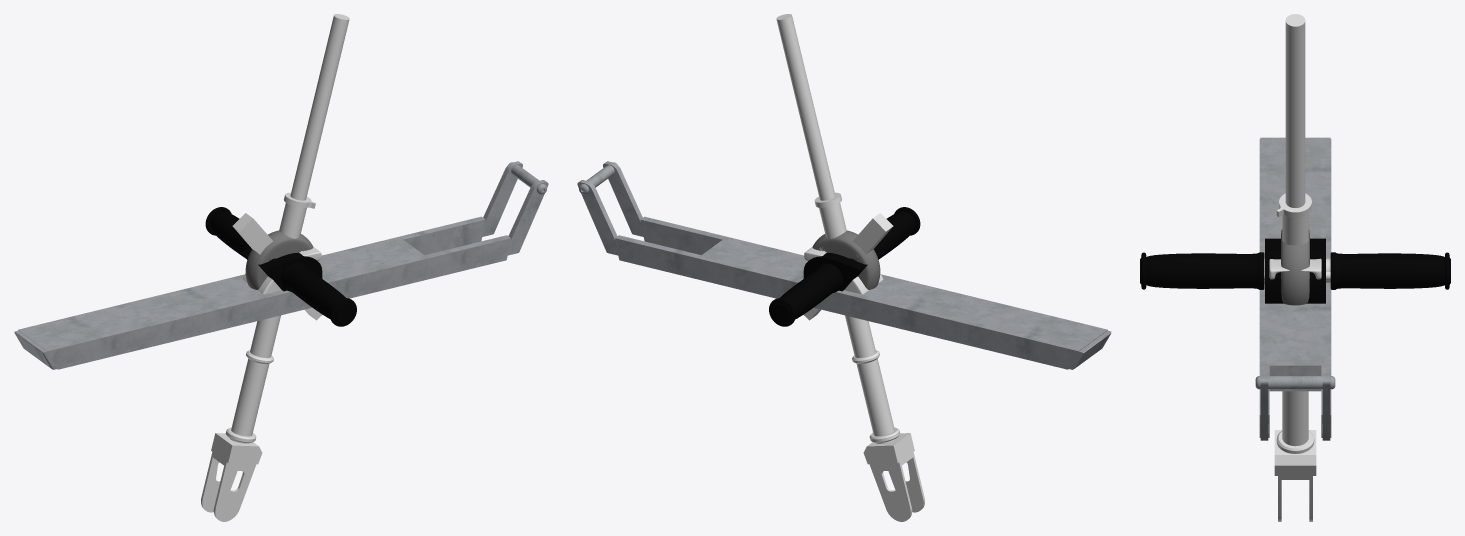
File: scooter.glb
The picture shows the model from 3 angles, left to right: view 1: azimuth 30°, elevation 25°; view 2: azimuth 150°, elevation 25°; view 3: azimuth 270°, elevation 25°; orthographic projection. The views are drawn at different scales.
Visible parts, largest first — view 1: Baseplate, Steering Rod, Handle Bar, Cylinder, Plastic Cover, Joint piece; view 2: Baseplate, Steering Rod, Handle Bar, Cylinder, Plastic Cover, Joint piece; view 3: Baseplate, Steering Rod, Handle Bar, Plastic Cover, Cylinder, Cube.014.
Boxes of the visible parts, <box> form: Baseplate: <box>14,161,548,369</box>; Steering Rod: <box>201,14,349,521</box>; Handle Bar: <box>205,207,356,326</box>; Cylinder: <box>245,230,313,289</box>; Plastic Cover: <box>240,248,322,291</box>; Joint piece: <box>232,213,322,320</box>; Baseplate: <box>577,161,1111,369</box>; Steering Rod: <box>776,14,924,521</box>; Handle Bar: <box>769,207,920,326</box>; Cylinder: <box>812,230,880,289</box>; Plastic Cover: <box>803,248,885,291</box>; Joint piece: <box>803,213,893,320</box>; Baseplate: <box>1255,137,1335,440</box>; Steering Rod: <box>1274,14,1316,521</box>; Handle Bar: <box>1140,252,1450,289</box>; Plastic Cover: <box>1265,238,1325,303</box>; Cylinder: <box>1281,229,1309,305</box>; Cube.014: <box>1269,258,1321,279</box>.
Size of the model in its own units: 763211 by 679763 by 333004.
4 materials, 1 textured.
